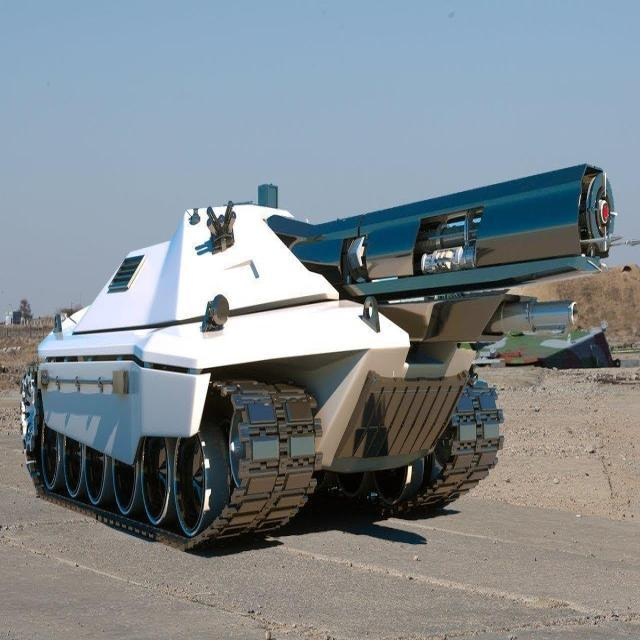MIL_MBT: (15, 33, 572, 617)
